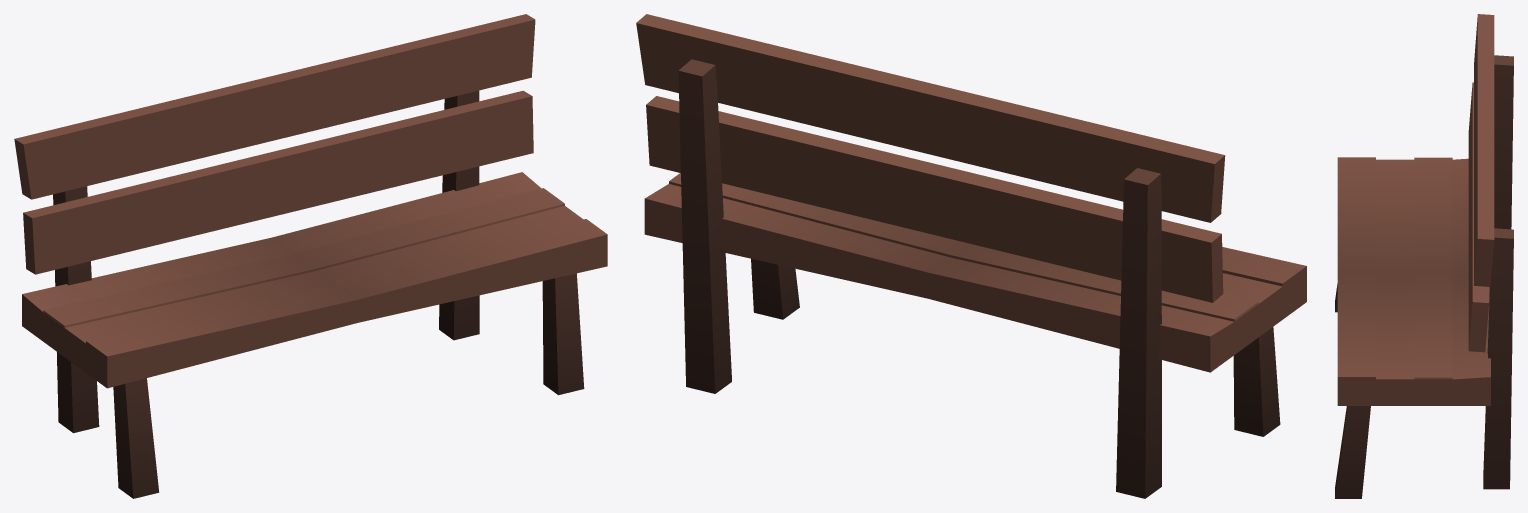
File: Bench.fbx
3 renders of one model, left to right at view 1: azimuth 30°, elevation 25°; view 2: azimuth 150°, elevation 25°; view 3: azimuth 270°, elevation 25°, orthographic. The views are drawn at different scales.
Parts seen in each view (by area): view 1: Bench; view 2: Bench; view 3: Bench.
Boxes of the visible parts, <box> form: Bench: <box>14,14,607,498</box>; Bench: <box>636,14,1306,498</box>; Bench: <box>1335,14,1513,498</box>.
Size of the model in its own units: 1.6 by 0.9077 by 0.5382.
